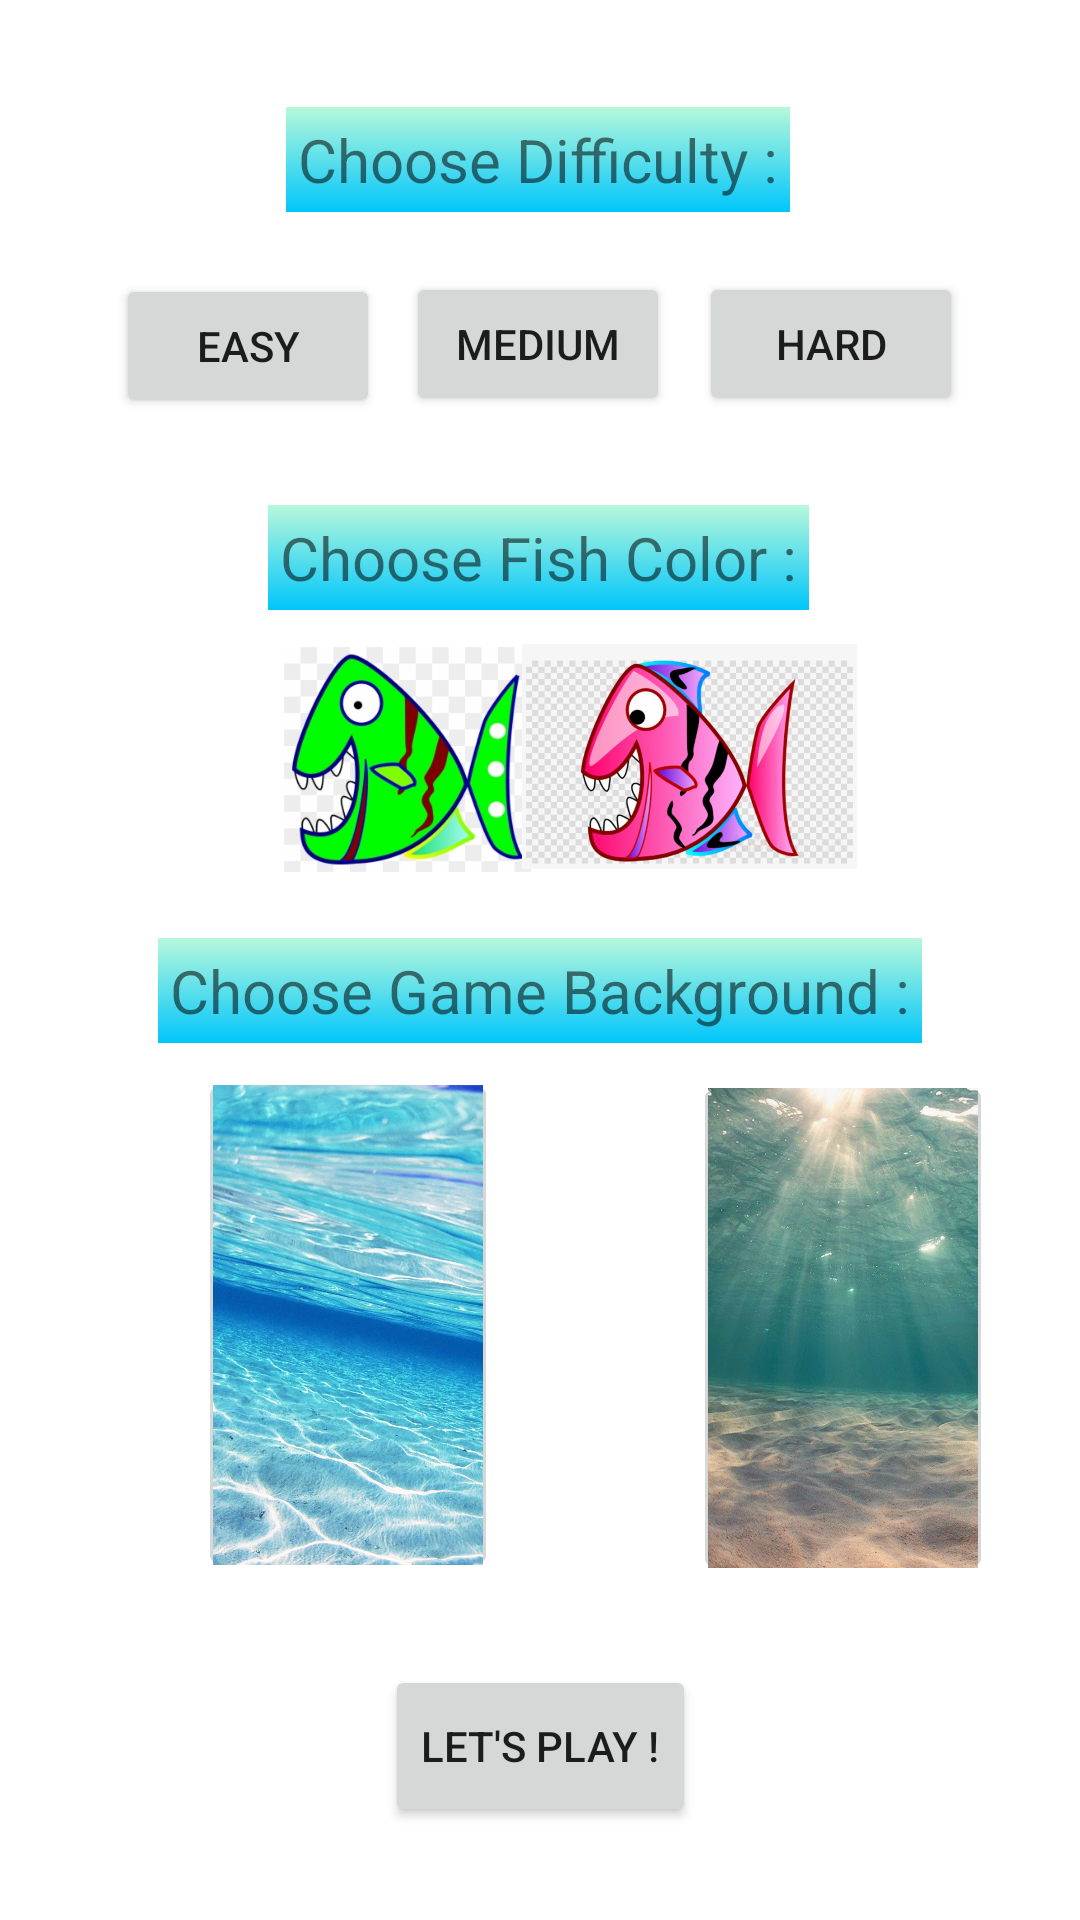

Icons on this 1080x1920 Android screen, each with its box as box=[x1, y1, x2, y2]:
eating fish: box=[291, 654, 522, 865], box=[526, 660, 853, 863]
